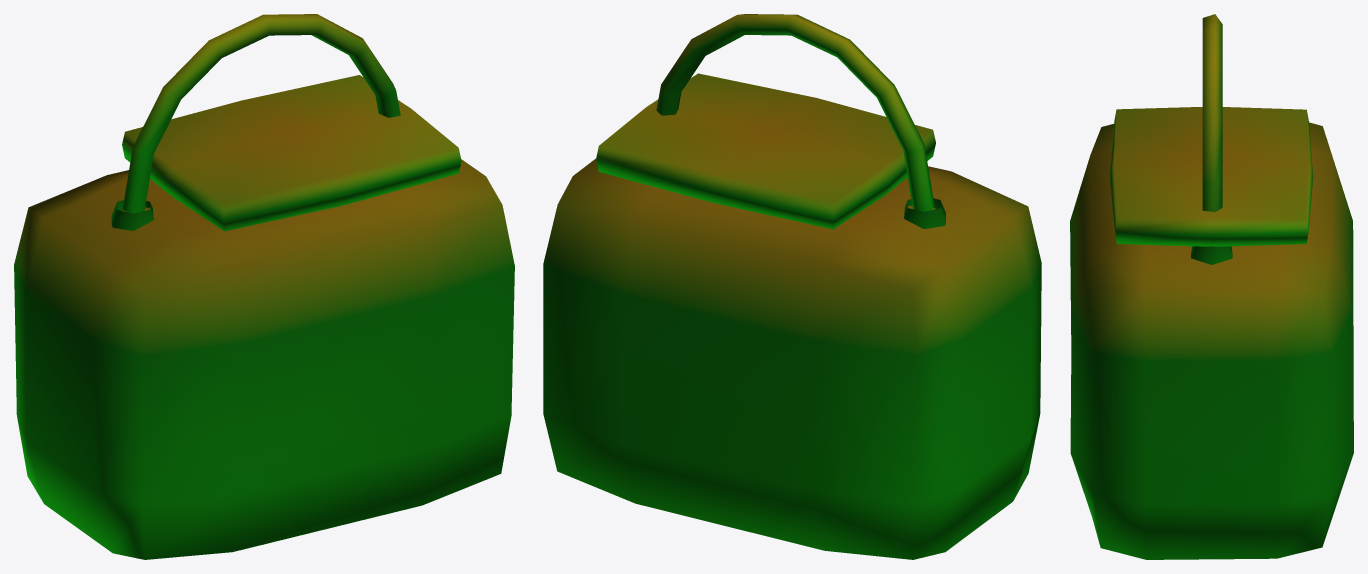
The model's file is woven_bag.glb.
The picture shows the model from 3 angles, left to right: view 1: azimuth 30°, elevation 25°; view 2: azimuth 150°, elevation 25°; view 3: azimuth 270°, elevation 25°; orthographic projection. The views are drawn at different scales.
Parts seen in each view (by area): view 1: woven_bag; view 2: woven_bag; view 3: woven_bag.
Part boxes in pixels (left/top/right/bottom): woven_bag: left=14, top=14, right=514, bottom=559; woven_bag: left=543, top=14, right=1041, bottom=559; woven_bag: left=1070, top=14, right=1353, bottom=559.
Size of what is drawn, in the model's own units: 0.4507 by 0.5115 by 0.2827.
